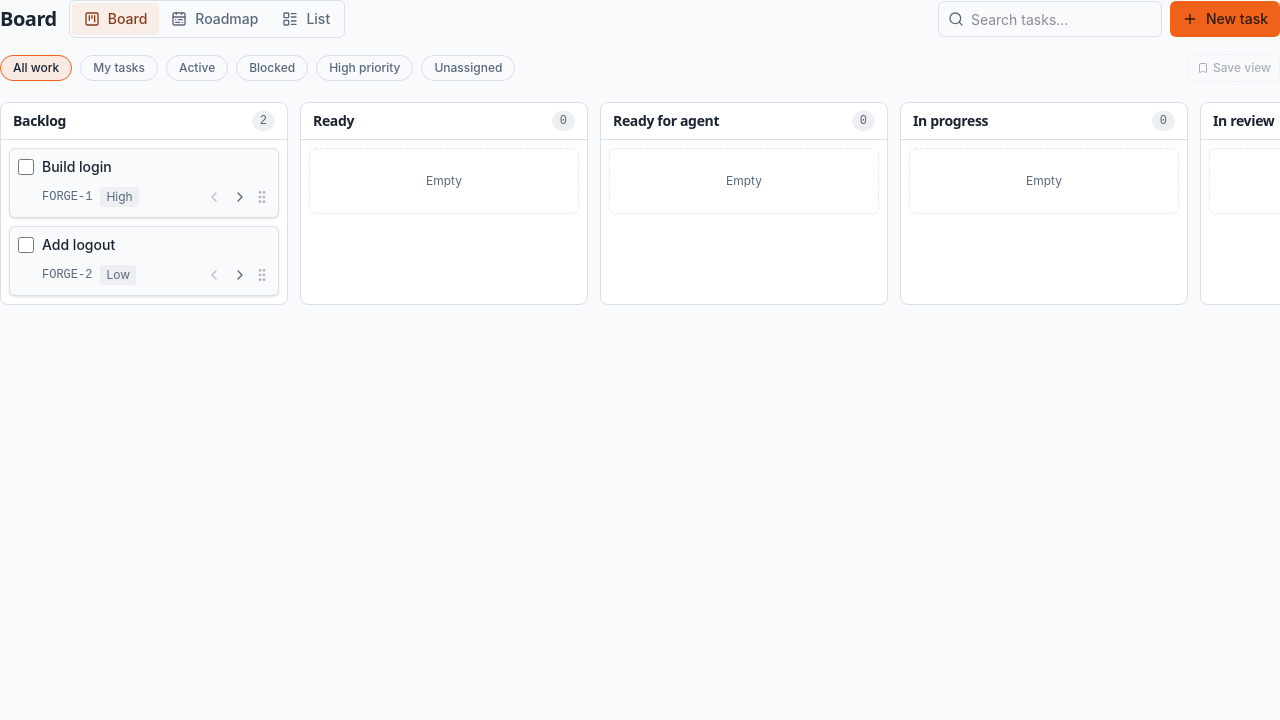
BoardDepth › opens the create-task dialog from the toolbar
The width and height of the screenshot is (1280, 720).
Expected: the element with test id "card-t1" is shown, [9,148,279,218]
Step 1. Click the button "New task" → (1225, 19), box [1170,1,1279,37]
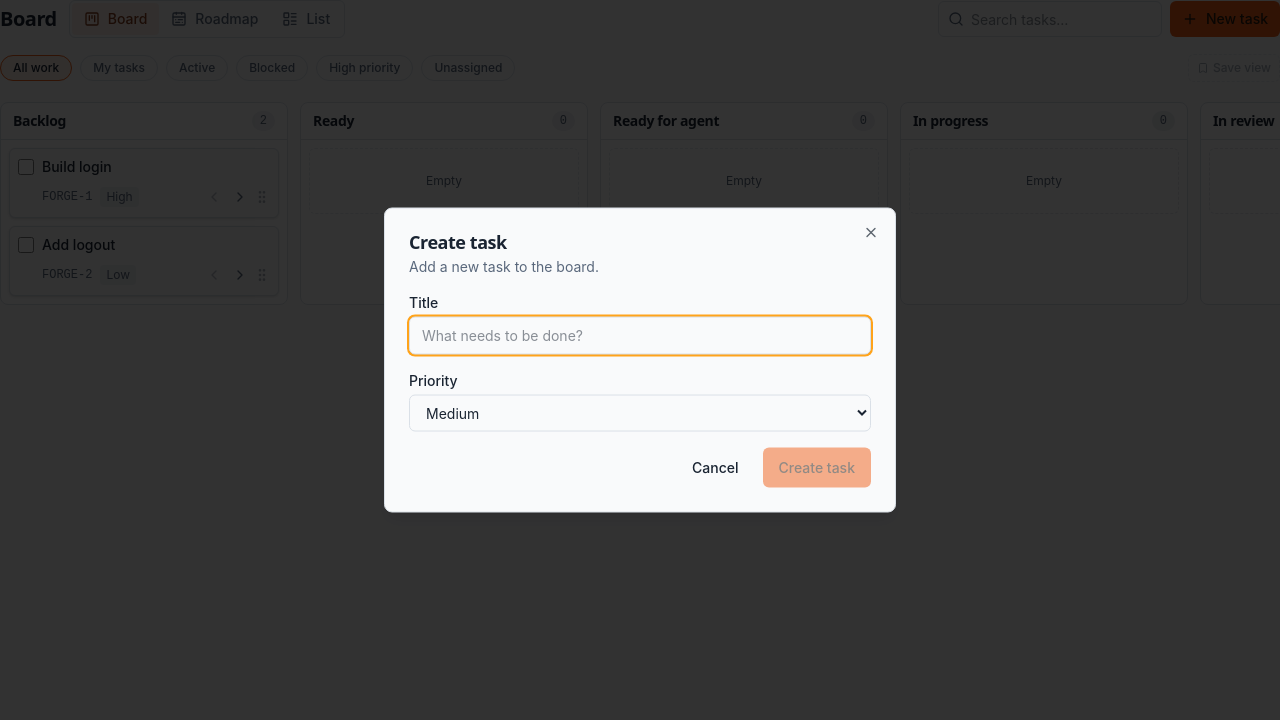
Expected: the text "Add a new task to the board." is shown, [409,258,599,274]
